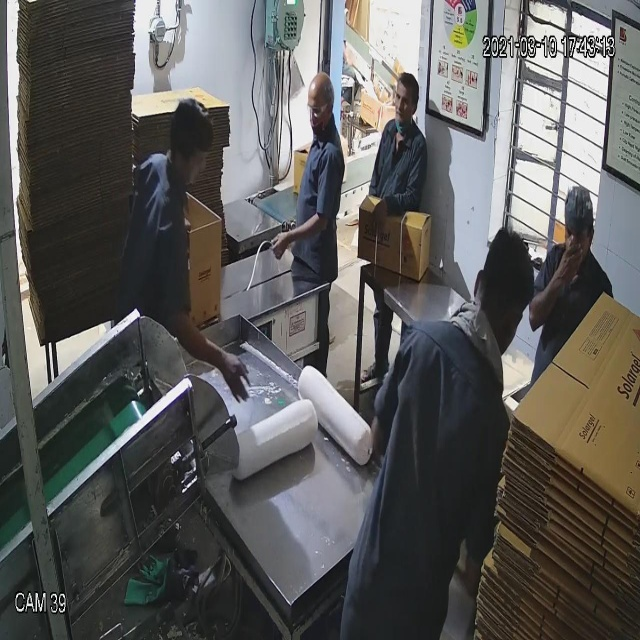Sin_guantes: (167, 290, 255, 413), (530, 234, 589, 337), (264, 200, 334, 270), (372, 184, 427, 239)
